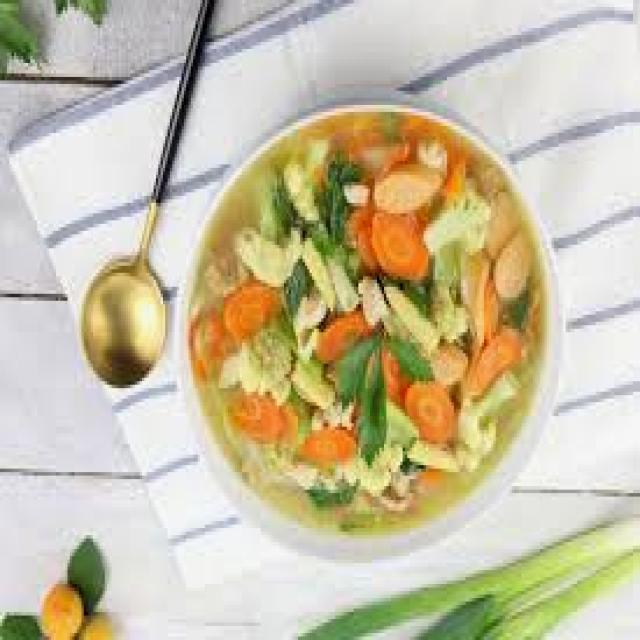capcay: (182, 94, 563, 560)
